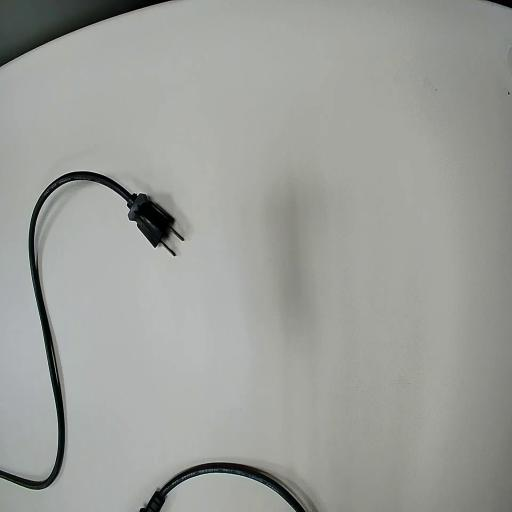wire: (0, 172, 177, 488)
